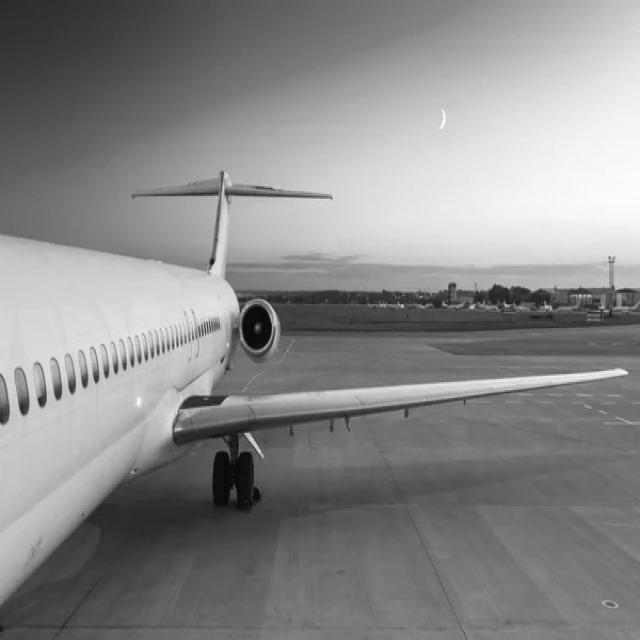Aircraft: (0, 147, 600, 593)
